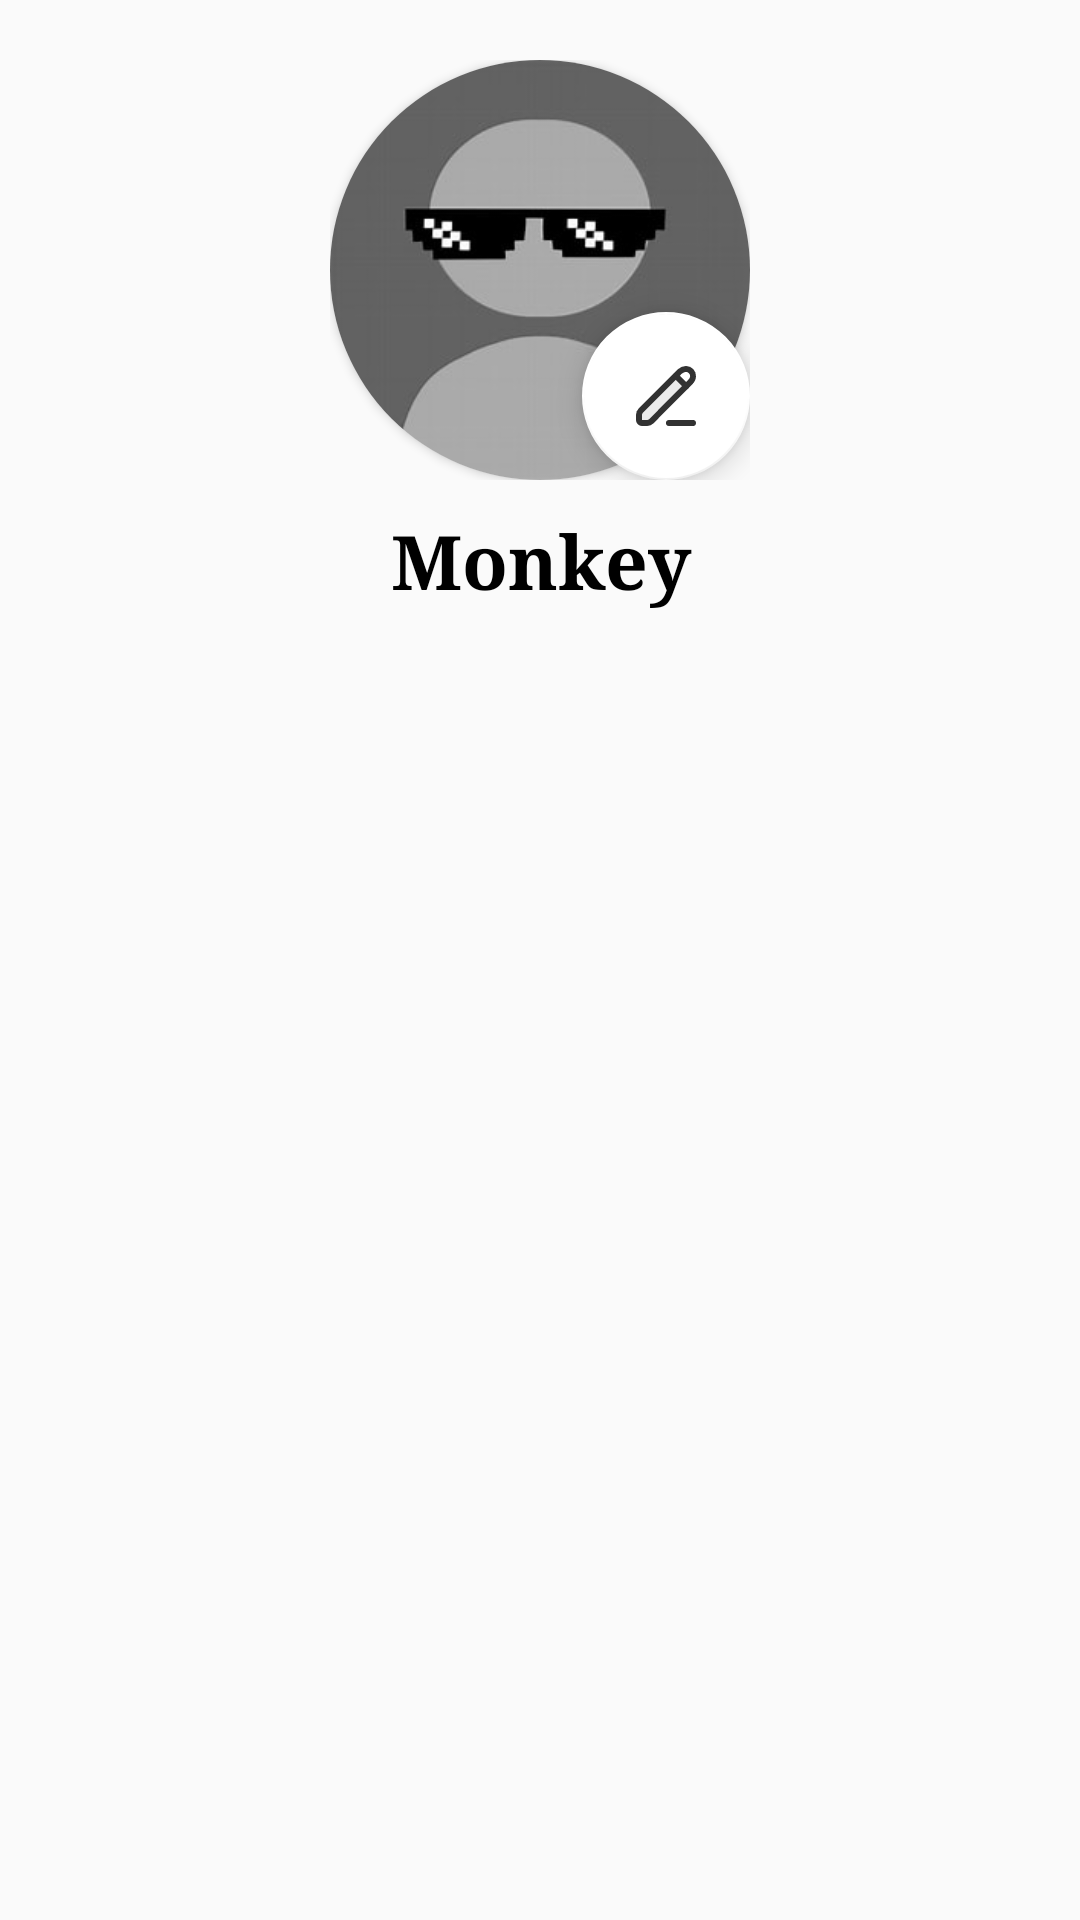

Icons on this 1080px×1920px Android screen, each with the point to tap as (x,y):
edit: (666,396)
